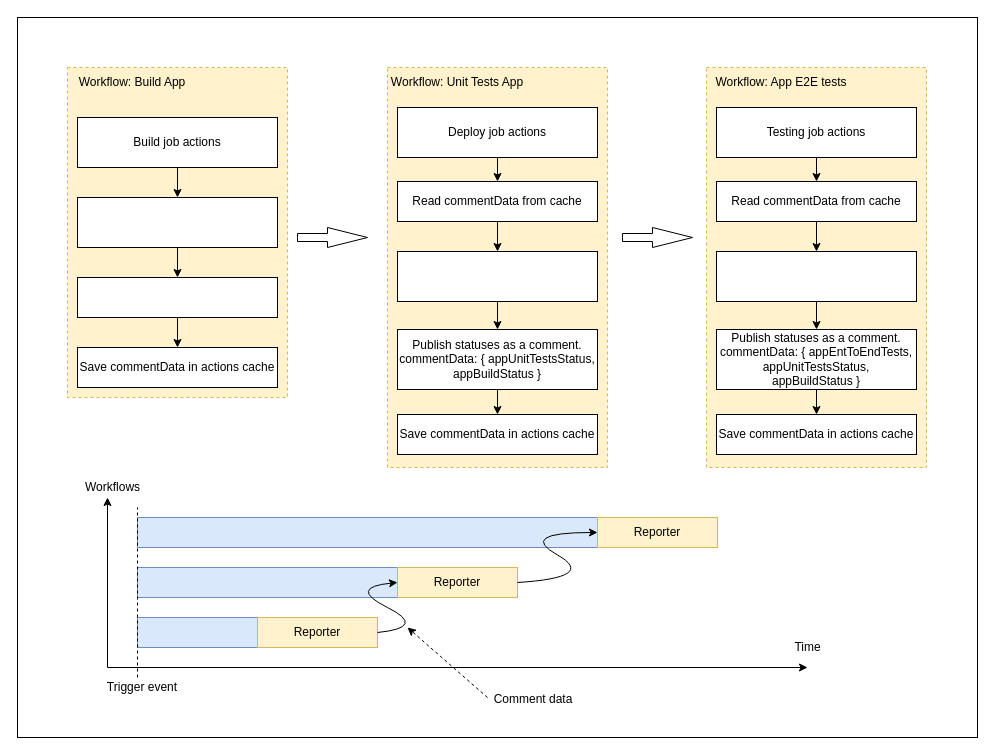
This 995x755 diagram has some shape labels left out. Here are the shapes that lost their labels. From the top down, the centre of each, then its label:
(x=177, y=222): Prepare commentData (add "appBuildStatus" section data )
(x=497, y=276): Prepare commentData (add "appUnitTestsStatus" section data )
(x=816, y=276): Prepare commentData (add "appEntToEndTests" section data )
(x=177, y=297): Publish statuses as a comment. commentData: { appBuildStatus }
(x=367, y=532): E2E Tests app
(x=267, y=582): Unit Tests app
(x=197, y=632): Build App
